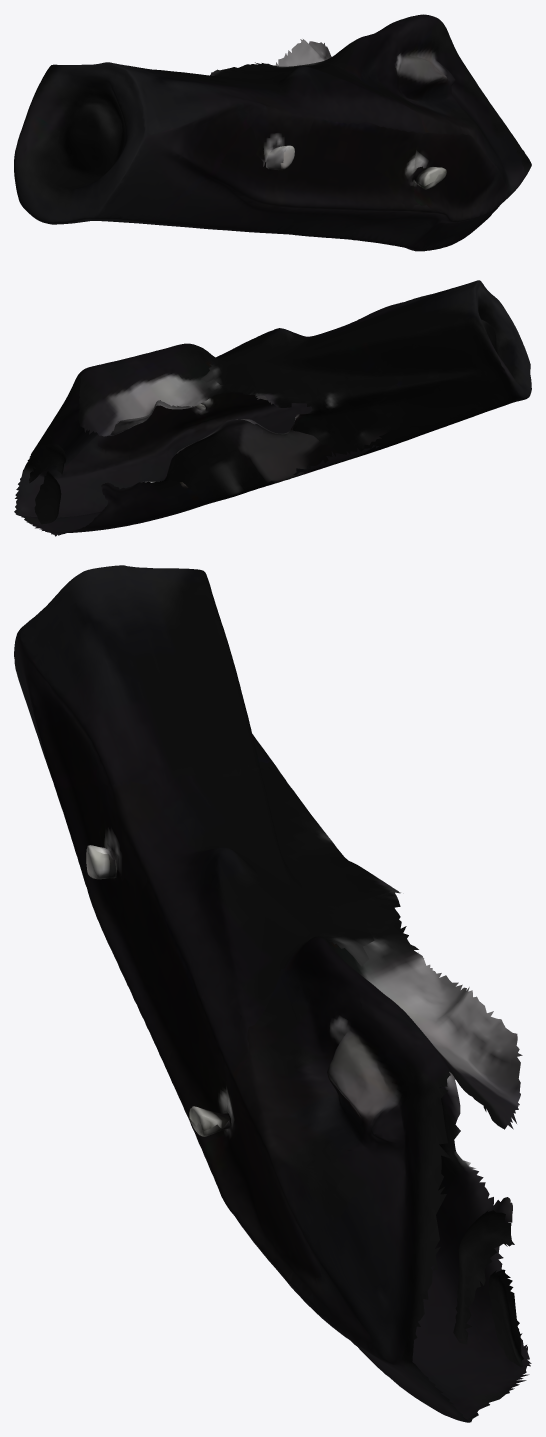
The model's file is blt150_09.obj.
3 views of the same model, one above another, from view 1: azimuth 30°, elevation 25°; view 2: azimuth 150°, elevation 25°; view 3: azimuth 270°, elevation 25° (orthographic). The views are drawn at different scales.
Visible parts, largest first — view 1: blt150_09; view 2: blt150_09; view 3: blt150_09.
Boxes of the visible parts, x1,y1,x2,y2 form: blt150_09: (14,14,531,251); blt150_09: (14,280,531,536); blt150_09: (14,565,531,1422).
Bounding box in the file's own units: 2.68 × 1.52 × 1.4.
